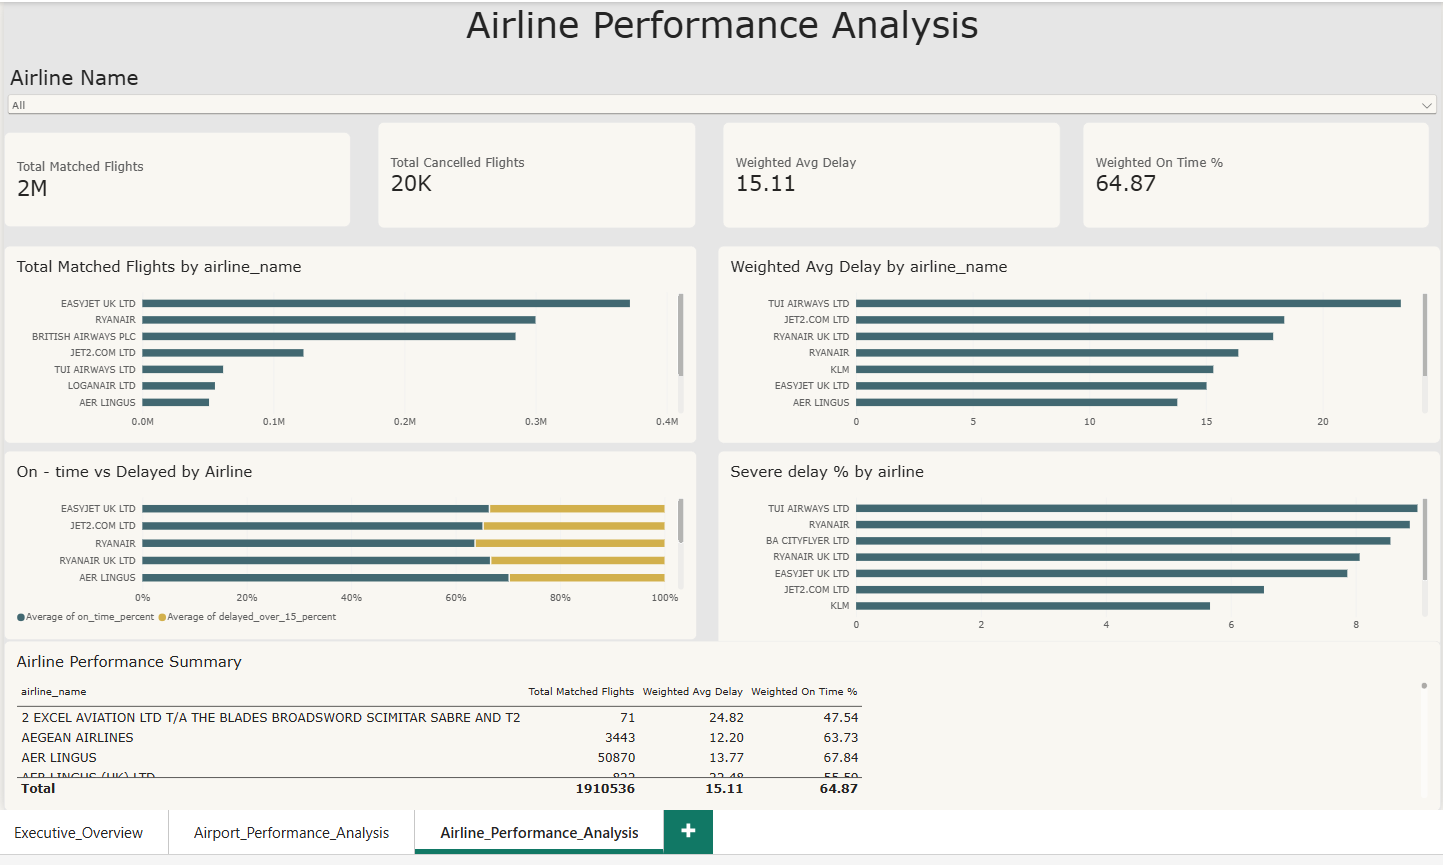

The dashboard page shown, as its layout file describes it:
{"tool":"powerbi","page":{"name":"Airline_Performance_Analysis","canvas":[1920,1080],"ordinal":2},"visuals":[{"type":"textbox","title":"Airline Performance Analysis","box":[0,0,1919.1,83],"z":0},{"type":"slicer","fields":{"Values":["caa_2025_punctuality_clean.airline_name"]},"box":[0,83,1919.1,91.5],"z":1000},{"type":"cardVisual","fields":{"Data":["caa_2025_punctuality_clean.Total Cancelled Flights"]},"box":[500,159.6,425.5,142.6],"z":2000},{"type":"cardVisual","fields":{"Data":["caa_2025_punctuality_clean.Weighted Avg Delay"]},"box":[959.6,159.6,451.1,142.6],"z":3000},{"type":"cardVisual","fields":{"Data":["caa_2025_punctuality_clean.Weighted On Time %"]},"box":[1440.4,159.6,463.8,142.6],"z":4000},{"type":"cardVisual","fields":{"Data":["caa_2025_punctuality_clean.Total Matched Flights"]},"box":[0,174.5,463.8,127.7],"z":5000},{"type":"clusteredBarChart","fields":{"Category":["caa_2025_punctuality_clean.airline_name"],"Y":["caa_2025_punctuality_clean.Total Matched Flights"]},"box":[0,325.5,925.5,263.8],"z":6000},{"type":"clusteredBarChart","fields":{"Category":["caa_2025_punctuality_clean.airline_name"],"Y":["caa_2025_punctuality_clean.Weighted Avg Delay"]},"box":[953.2,325.5,966,263.8],"z":7000},{"type":"hundredPercentStackedBarChart","title":"On - time  vs Delayed by Airline","fields":{"Category":["caa_2025_punctuality_clean.airline_name"],"Y":["Avg(caa_2025_punctuality_clean.on_time_percent)","Avg(caa_2025_punctuality_clean.delayed_over_15_percent)"]},"box":[0,600,925.5,253.2],"z":8000},{"type":"clusteredBarChart","title":"Severe delay % by airline","fields":{"Category":["caa_2025_punctuality_clean.airline_name"],"Y":["Avg(caa_2025_punctuality_clean.severe_delay_percent)"]},"box":[953.2,600,966,261.7],"z":9000},{"type":"tableEx","title":"Airline Performance Summary","fields":{"Values":["caa_2025_punctuality_clean.airline_name","caa_2025_punctuality_clean.Total Matched Flights","caa_2025_punctuality_clean.Weighted Avg Delay","caa_2025_punctuality_clean.Weighted On Time %"]},"box":[0,853.2,1919.1,227.7],"z":10000}]}

Visuals, with their boxes on the page's 1920x1080 design canvas (x1, y1, x2, y2). These are canvas units, not pixel positions in the 1443x865 screenshot, which may show the page scaled, cropped or inside an application window:
"Airline Performance Analysis" textbox: {"x1": 0, "y1": 0, "x2": 1919, "y2": 83}
slicer - caa_2025_punctuality_clean.airline_name: {"x1": 0, "y1": 83, "x2": 1919, "y2": 174}
cardVisual - caa_2025_punctuality_clean.Total Cancelled Flights: {"x1": 500, "y1": 160, "x2": 926, "y2": 302}
cardVisual - caa_2025_punctuality_clean.Weighted Avg Delay: {"x1": 960, "y1": 160, "x2": 1411, "y2": 302}
cardVisual - caa_2025_punctuality_clean.Weighted On Time %: {"x1": 1440, "y1": 160, "x2": 1904, "y2": 302}
cardVisual - caa_2025_punctuality_clean.Total Matched Flights: {"x1": 0, "y1": 174, "x2": 464, "y2": 302}
clusteredBarChart - caa_2025_punctuality_clean.airline_name x caa_2025_punctuality_clean.Total Matched Flights: {"x1": 0, "y1": 326, "x2": 926, "y2": 589}
clusteredBarChart - caa_2025_punctuality_clean.airline_name x caa_2025_punctuality_clean.Weighted Avg Delay: {"x1": 953, "y1": 326, "x2": 1919, "y2": 589}
"On - time  vs Delayed by Airline" hundredPercentStackedBarChart: {"x1": 0, "y1": 600, "x2": 926, "y2": 853}
"Severe delay % by airline" clusteredBarChart: {"x1": 953, "y1": 600, "x2": 1919, "y2": 862}
"Airline Performance Summary" tableEx: {"x1": 0, "y1": 853, "x2": 1919, "y2": 1081}
